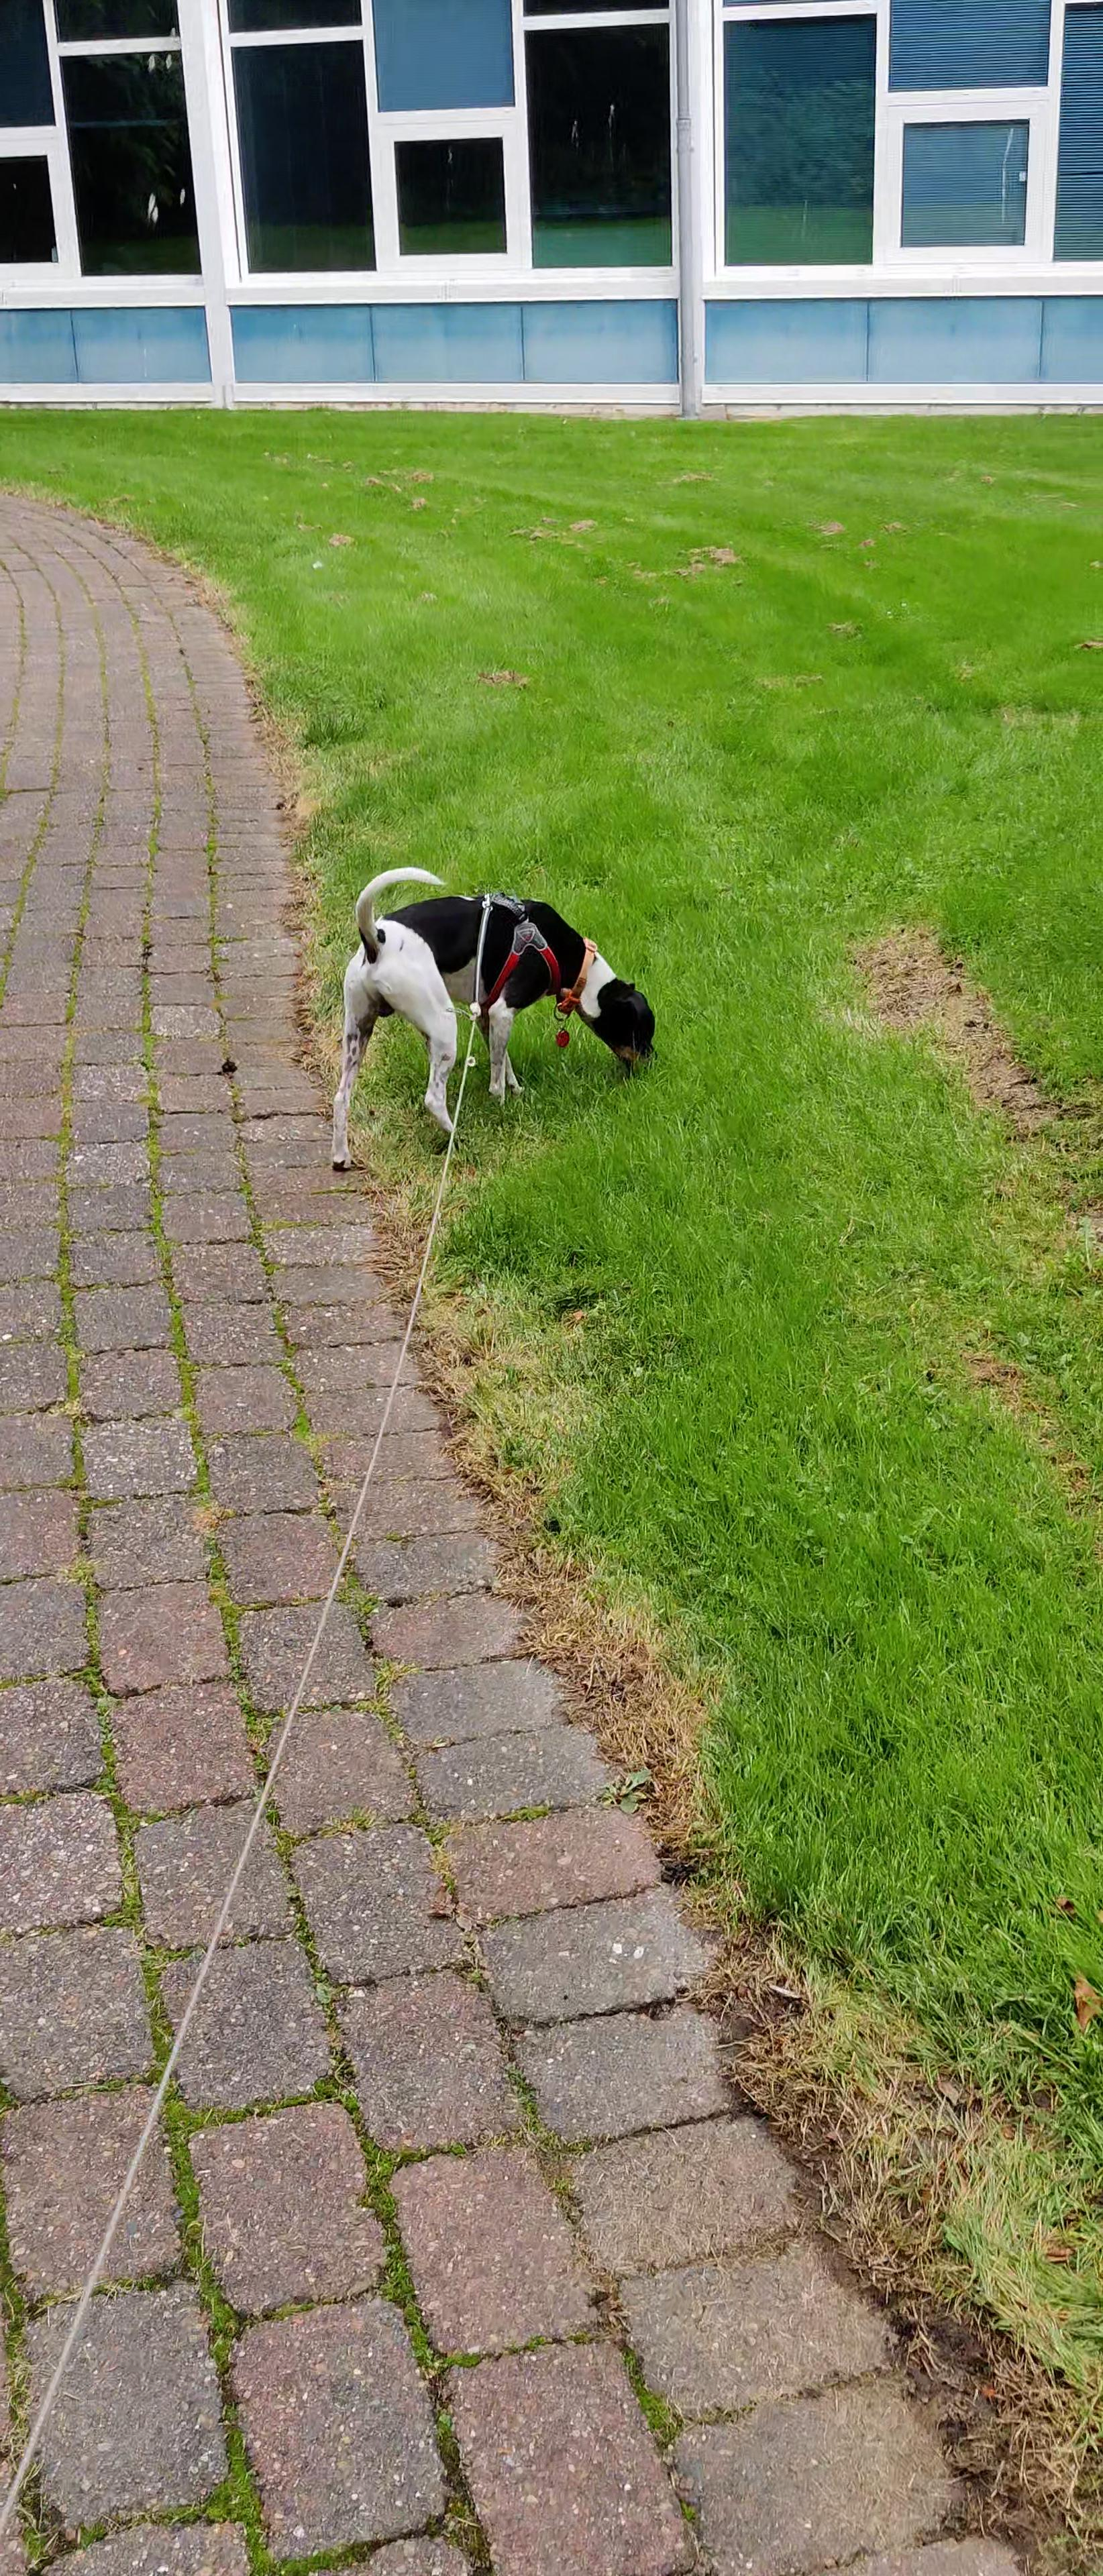Dog: (321, 861, 666, 1171)
